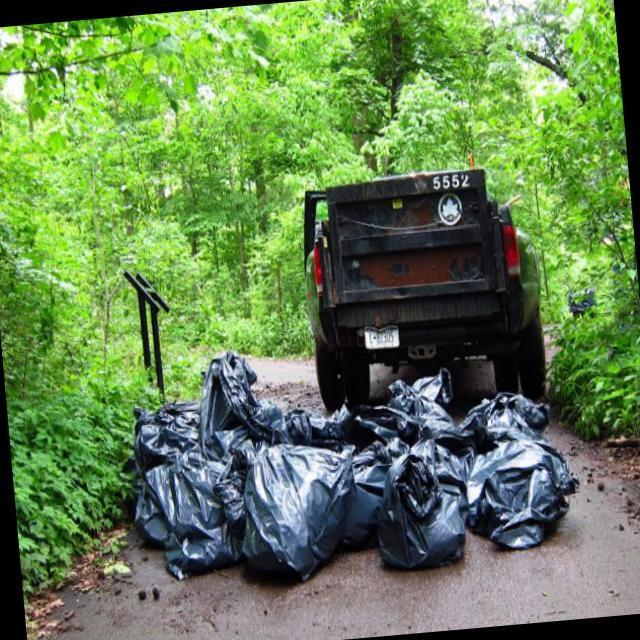garbage: (130, 351, 578, 588), (174, 330, 342, 590)
